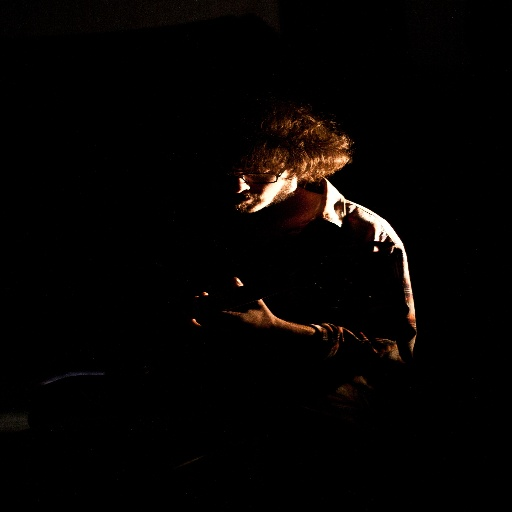hand: (225, 298, 363, 351)
